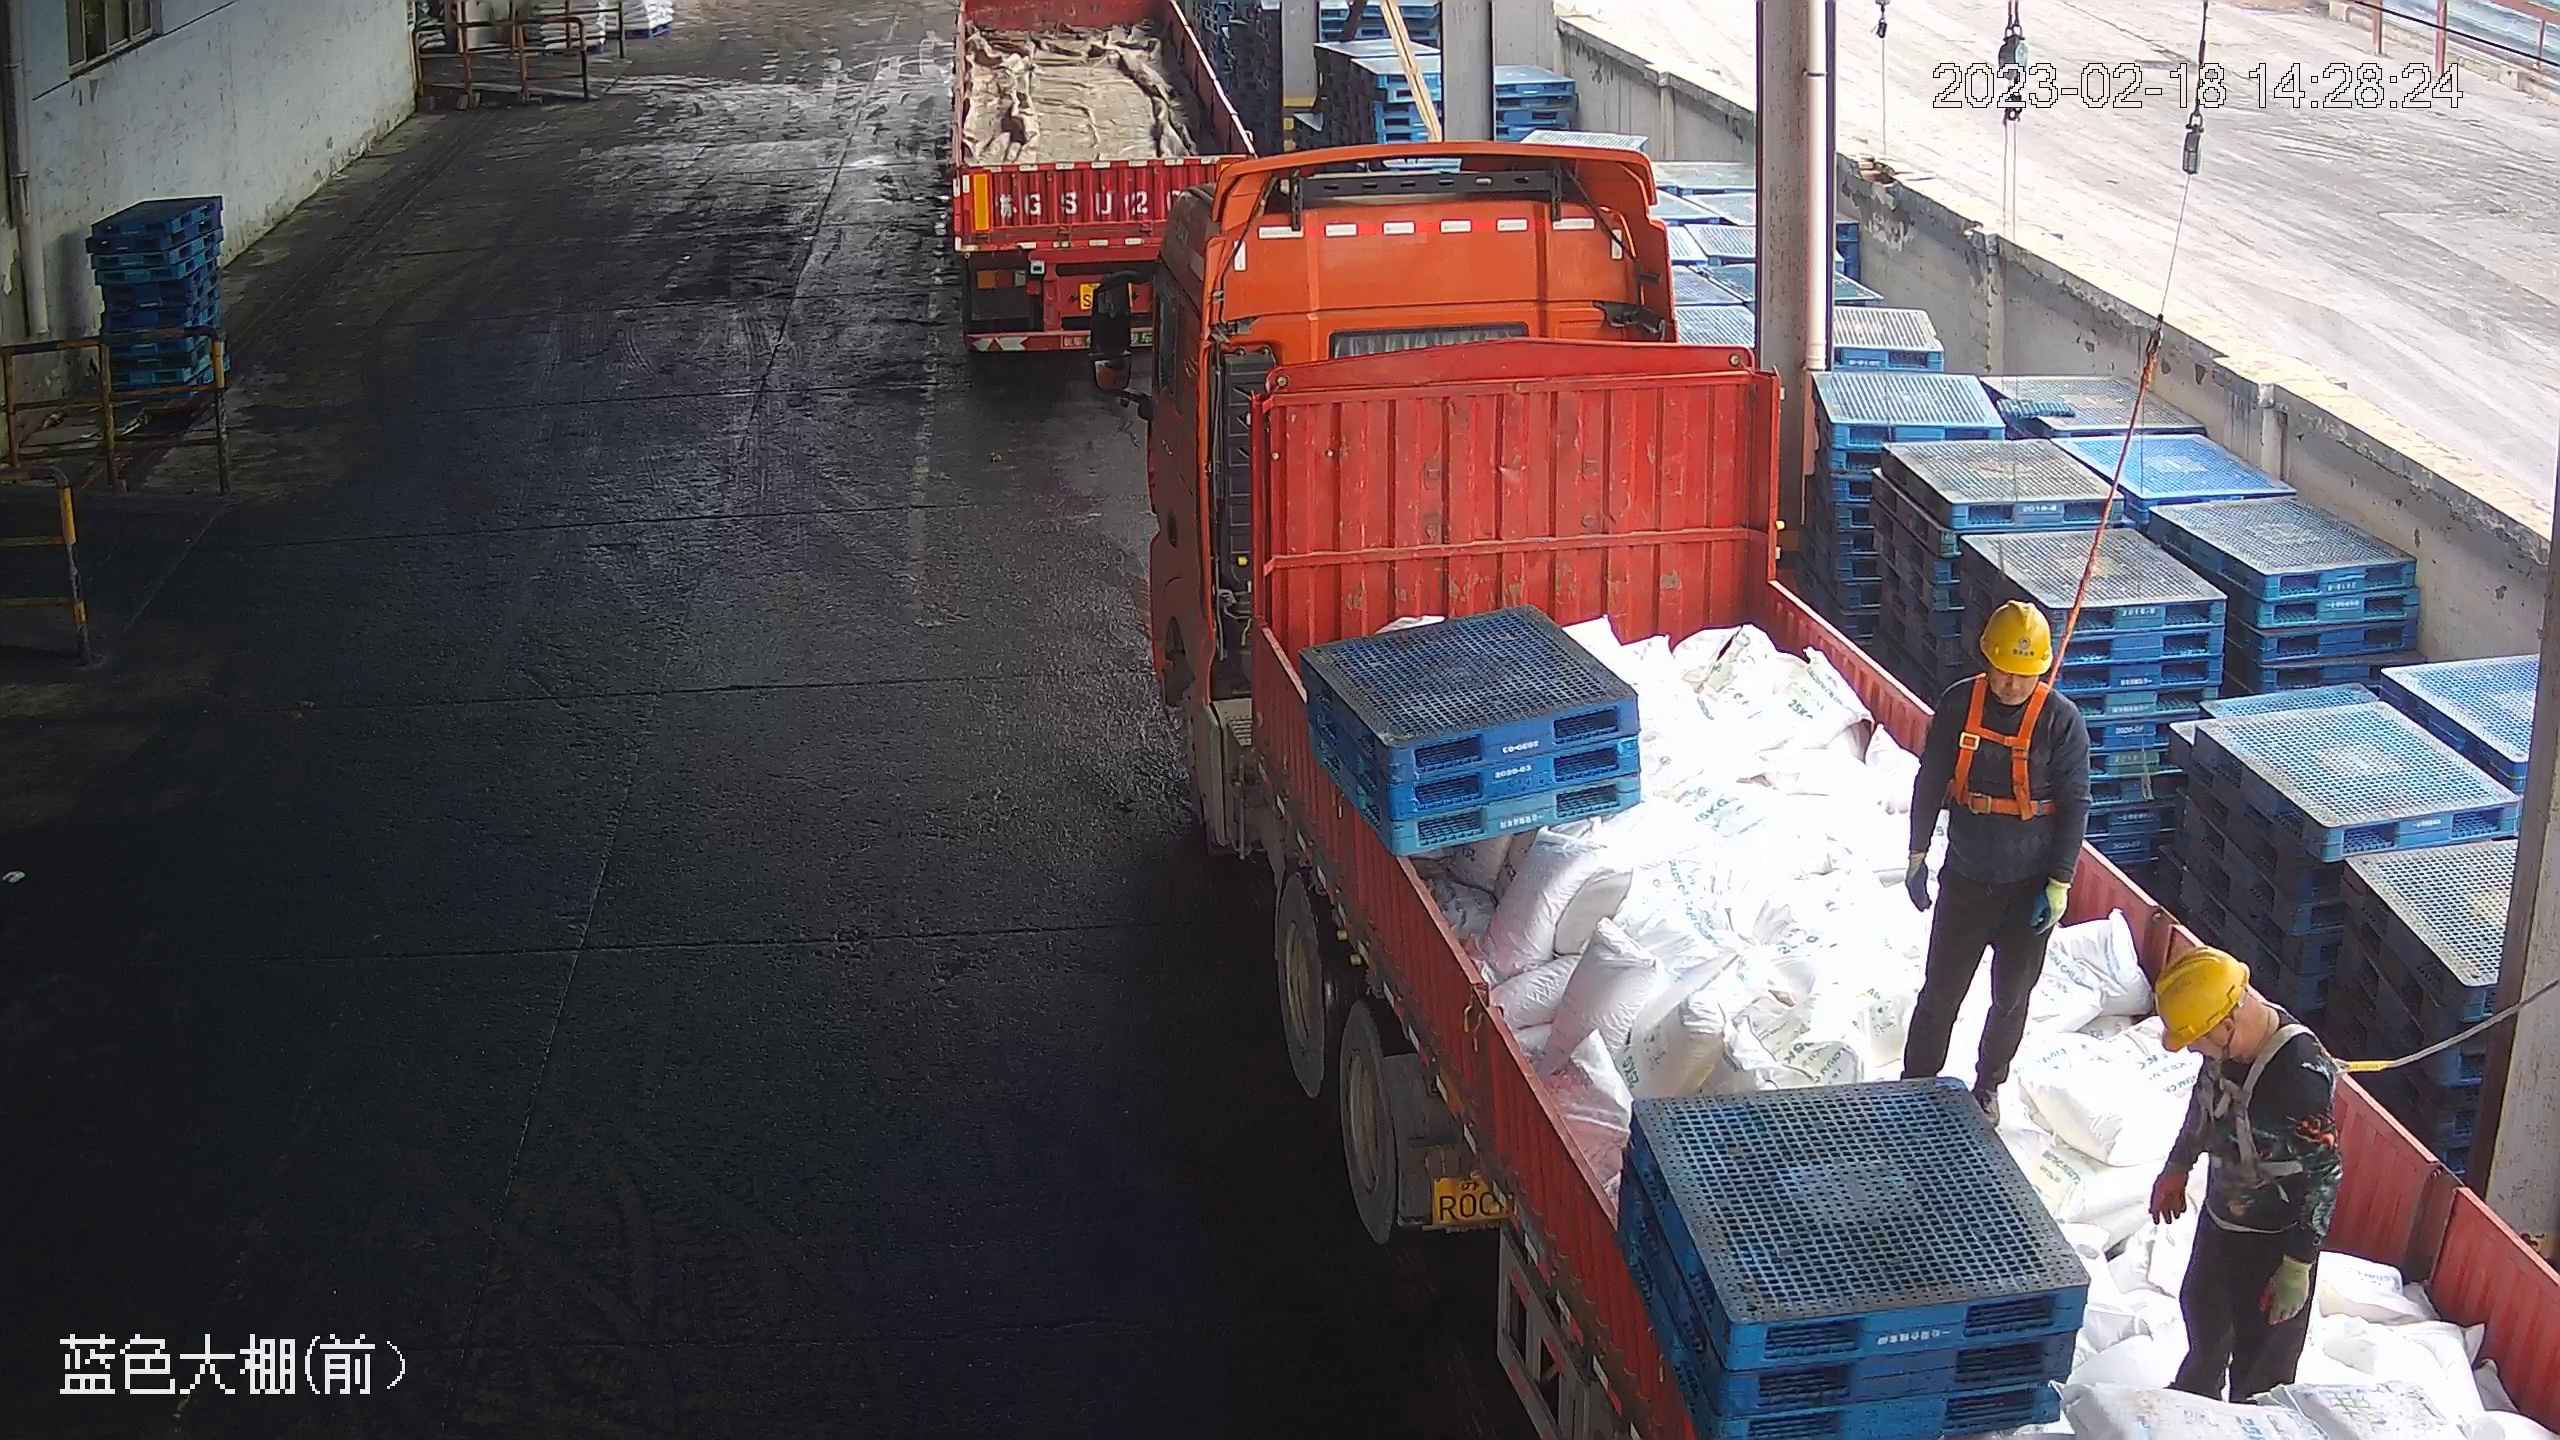belt: (2192, 1023, 2345, 1184), (1948, 666, 2066, 820)
head: (2150, 947, 2338, 1122), (1922, 596, 2086, 754)
helmet: (2153, 944, 2249, 1052), (1977, 597, 2054, 676)
people: (1892, 594, 2090, 1114), (2143, 945, 2343, 1402)
truck: (1086, 139, 2552, 1439), (948, 1, 1262, 356)
